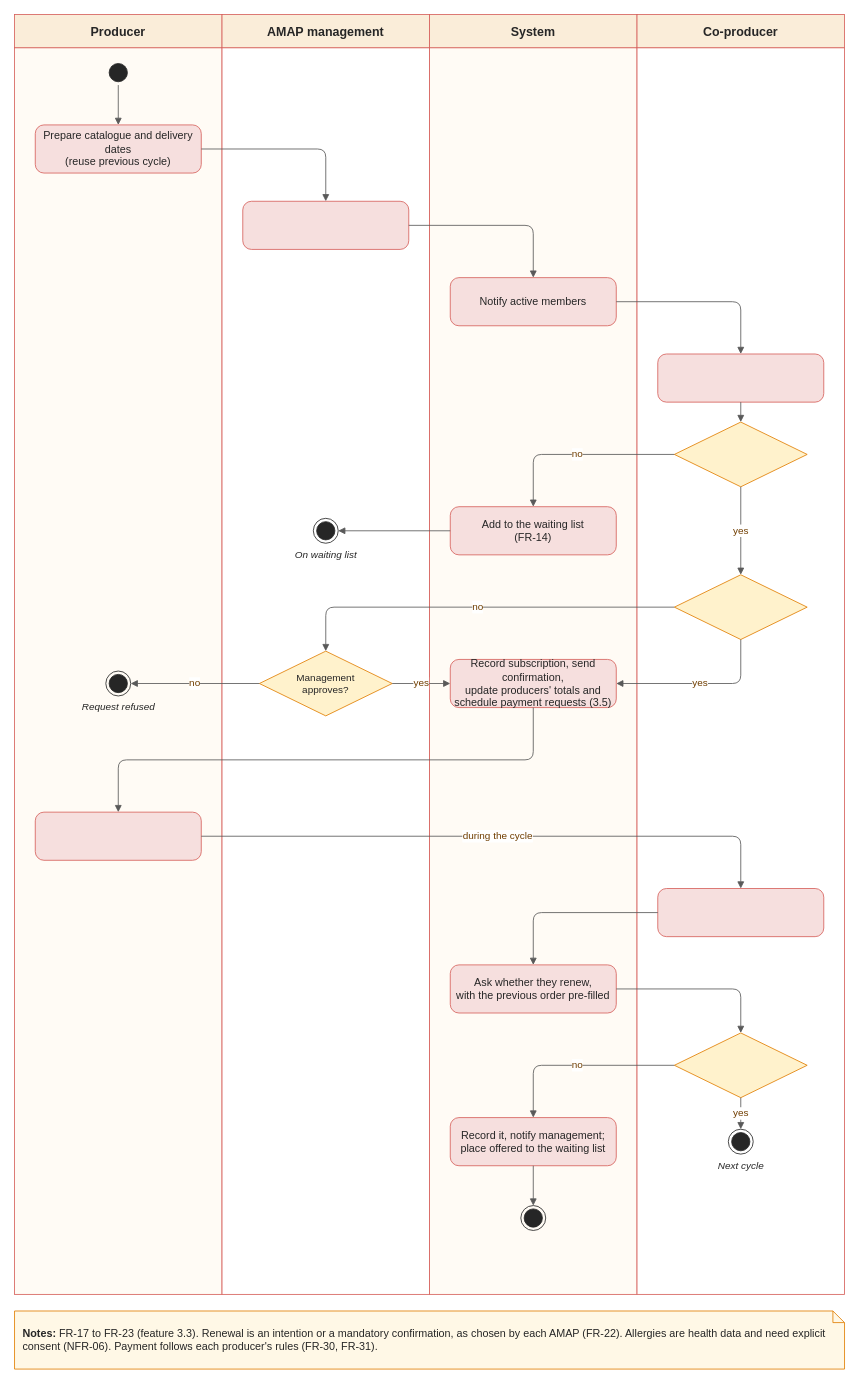
The diagram is 859 pixels wide and 1384 high, and some of its shapes have lost their labels. Here are the shapes that lost their labels. From the top down, the centre of each, then its label:
(x=325, y=224): Open cycle: length and subscription deadline
(x=740, y=377): Choose products, variants and dates from several producers; record exclusions
(x=740, y=454): Places available?
(x=740, y=607): Before the deadline?
(x=117, y=835): Plan production and harvest from the totals ordered
(x=740, y=912): Change order within each producer's rules (optional)
(x=740, y=1065): Renews?
(x=533, y=1217): Leaves at the end of the cycle
